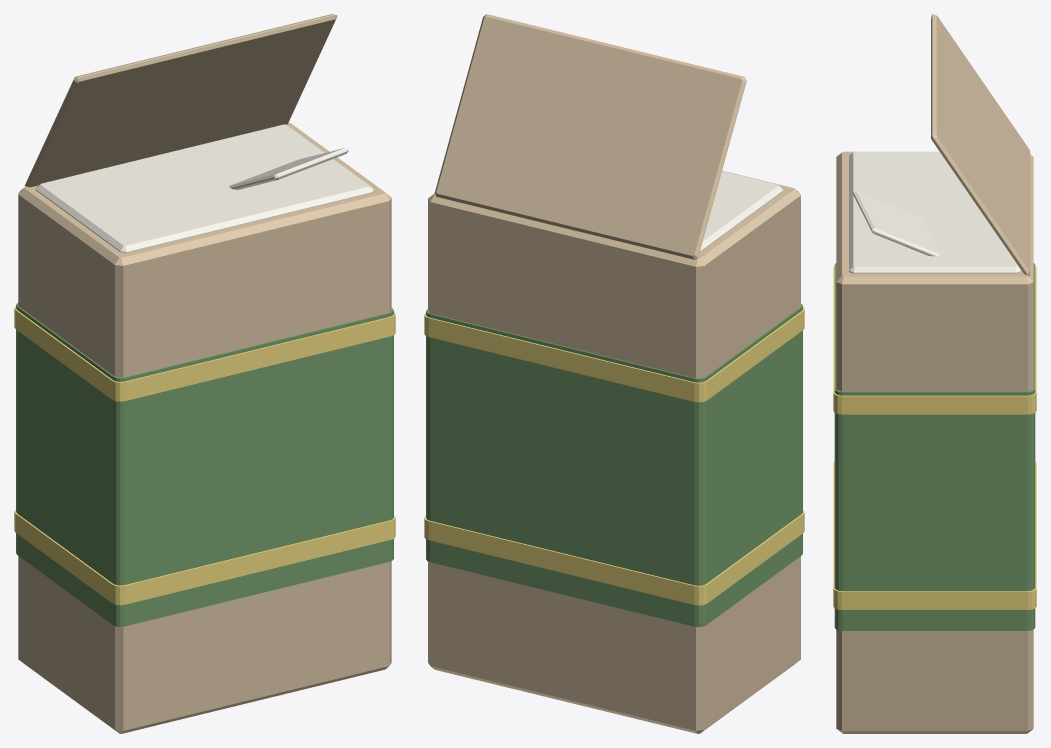
The model's file is fresh-produce-and-groceries-tea-box-6a86b1e9__24442.glb.
The picture shows the model from 3 angles, left to right: view 1: azimuth 30°, elevation 25°; view 2: azimuth 150°, elevation 25°; view 3: azimuth 270°, elevation 25°; orthographic projection. The views are drawn at different scales.
Visible parts, largest first — view 1: tea-box; view 2: tea-box; view 3: tea-box.
Part boxes in pixels (x1,y1,x2,y2): tea-box: (14, 14, 395, 733); tea-box: (424, 14, 804, 733); tea-box: (833, 14, 1036, 733).
Bounding box in the file's own units: 0.0856 × 0.1801 × 0.0556.
